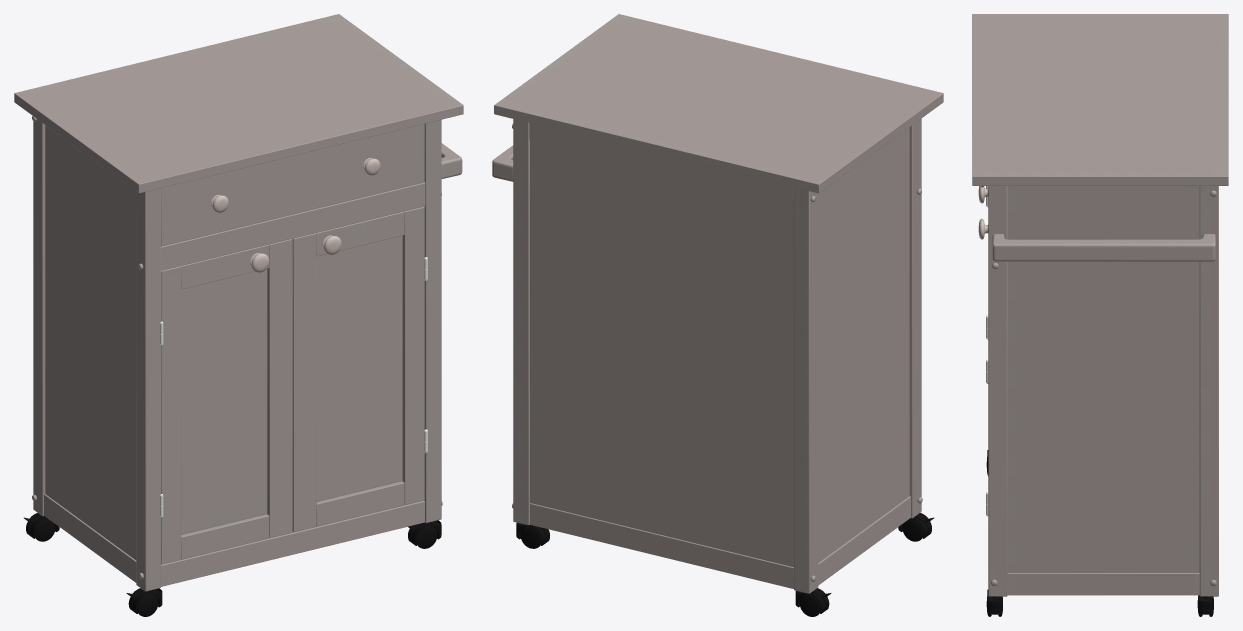
Rendered from abo-B07MGL8651.glb.
3 views of the same model, side by side, from view 1: azimuth 30°, elevation 25°; view 2: azimuth 150°, elevation 25°; view 3: azimuth 270°, elevation 25° (orthographic). The views are drawn at different scales.
Size of the model in its own units: 0.683 by 0.864 by 0.442.
Materials: 1 (1 with a texture image).
